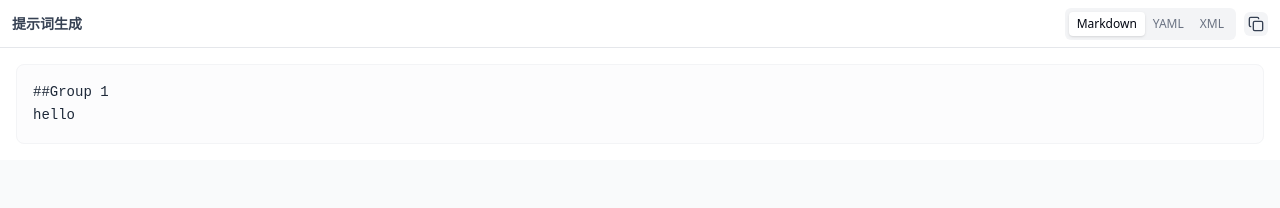
Test: PromptTextPanel › switches format and updates text content
Switch to YAML
Step 1. Click the tab with test id "prompt-text-format-yaml" → click(1168, 24), box [1145,12,1192,36]
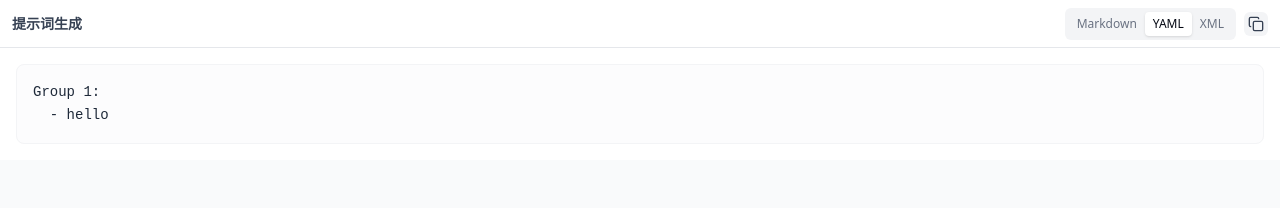
Now the text with test id "prompt-text" shows "Group 1:", box [33,84,109,123]
Now the text with test id "prompt-text" shows "- hello", box [33,84,109,123]
Switch to XML
Step 2. Click the tab with test id "prompt-text-format-xml" → click(1212, 24), box [1192,12,1232,36]
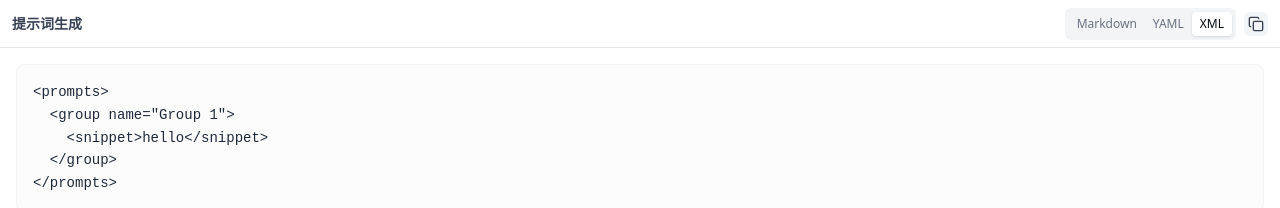
Now the text with test id "prompt-text" shows "<prompts>", box [33,84,268,191]
Now the text with test id "prompt-text" shows "<group name=\"Group 1\">", box [33,84,268,191]
Now the text with test id "prompt-text" shows "<snippet>hello</snippet>", box [33,84,268,191]
